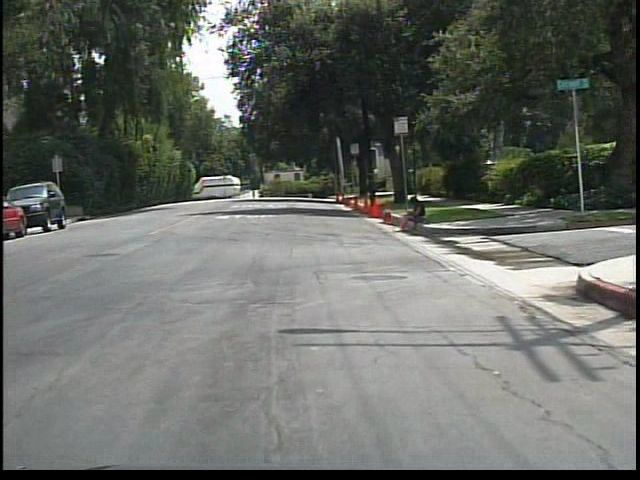person: (395, 191, 431, 237)
